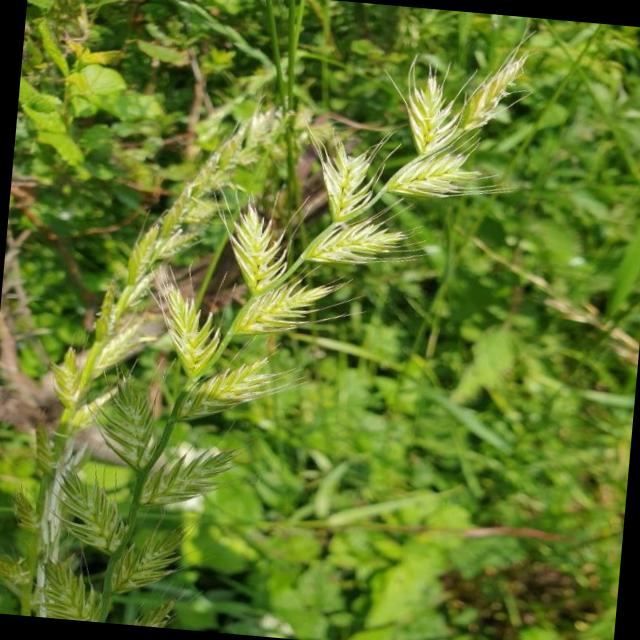Lolium: (88, 17, 532, 640), (18, 82, 284, 634)
